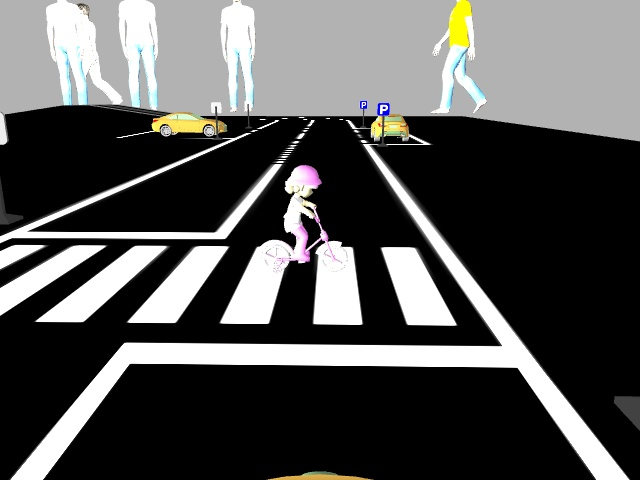Parking: (375, 100, 390, 117), (358, 99, 368, 109)
Pedestrian: (254, 164, 351, 275)
